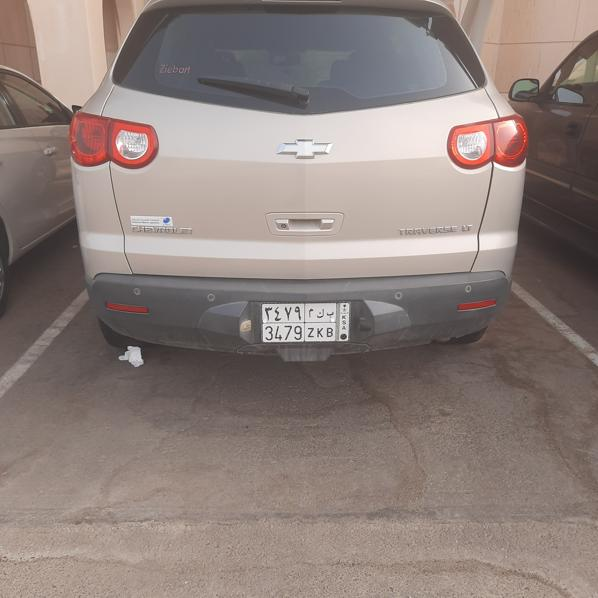numberplate: (260, 303, 350, 342)
